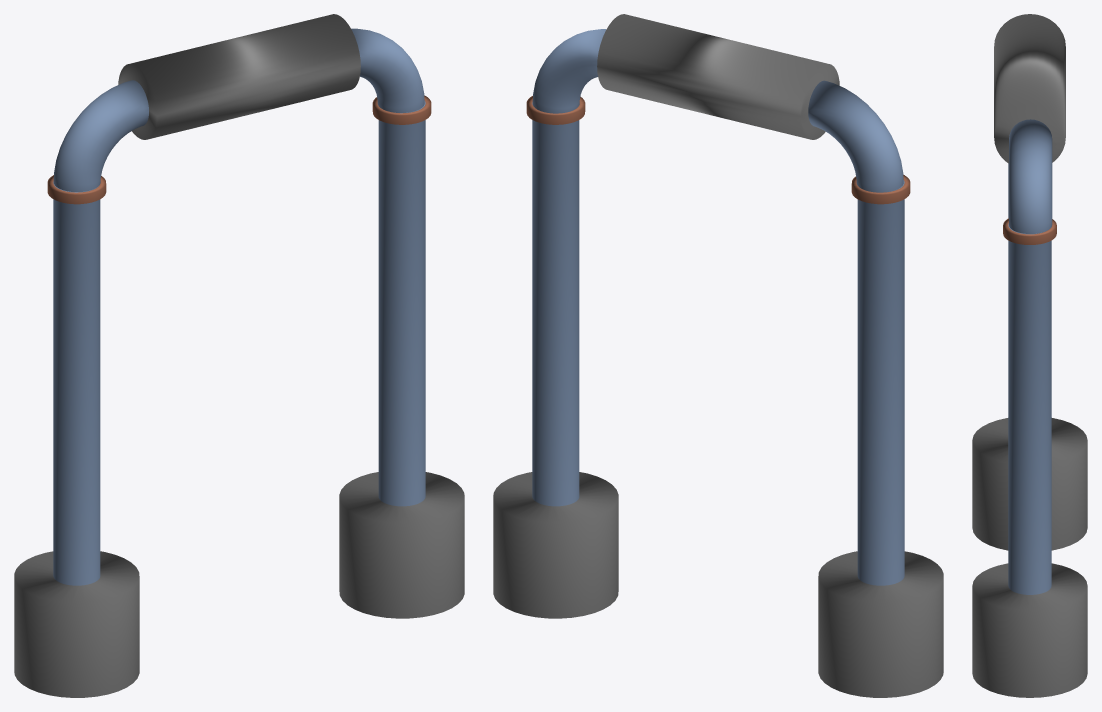
The model's file is Tuyau.fbx.
3 views of the same model, side by side, from view 1: azimuth 30°, elevation 25°; view 2: azimuth 150°, elevation 25°; view 3: azimuth 270°, elevation 25° (orthographic). The views are drawn at different scales.
Parts seen in each view (by area): view 1: Cylinder.004; view 2: Cylinder.004; view 3: Cylinder.004.
Boxes of the visible parts, left/top/right/bottom form: Cylinder.004: left=14, top=14, right=464, bottom=697; Cylinder.004: left=493, top=14, right=943, bottom=697; Cylinder.004: left=972, top=14, right=1087, bottom=697.
Bounding box in the file's own units: 2125 × 2762 × 533.
